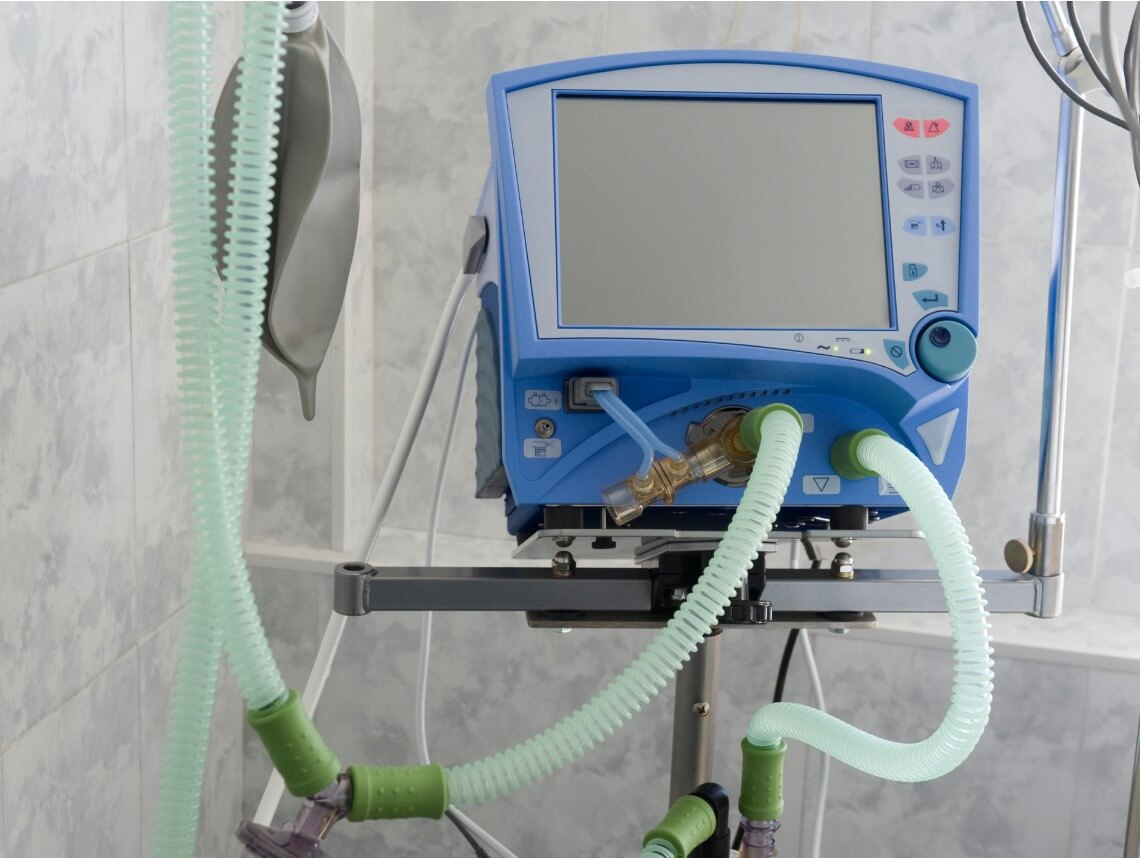breathing_tube: (148, 1, 980, 858)
ventilator: (320, 41, 977, 857)
